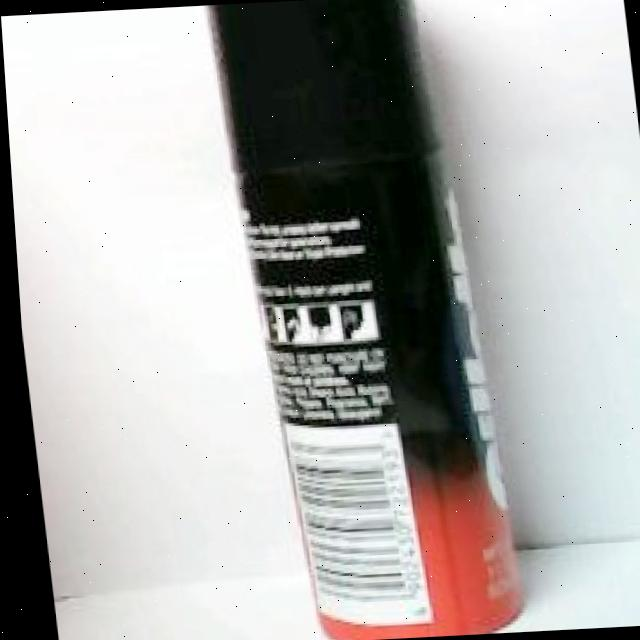gillette-foam: (209, 0, 516, 636)
